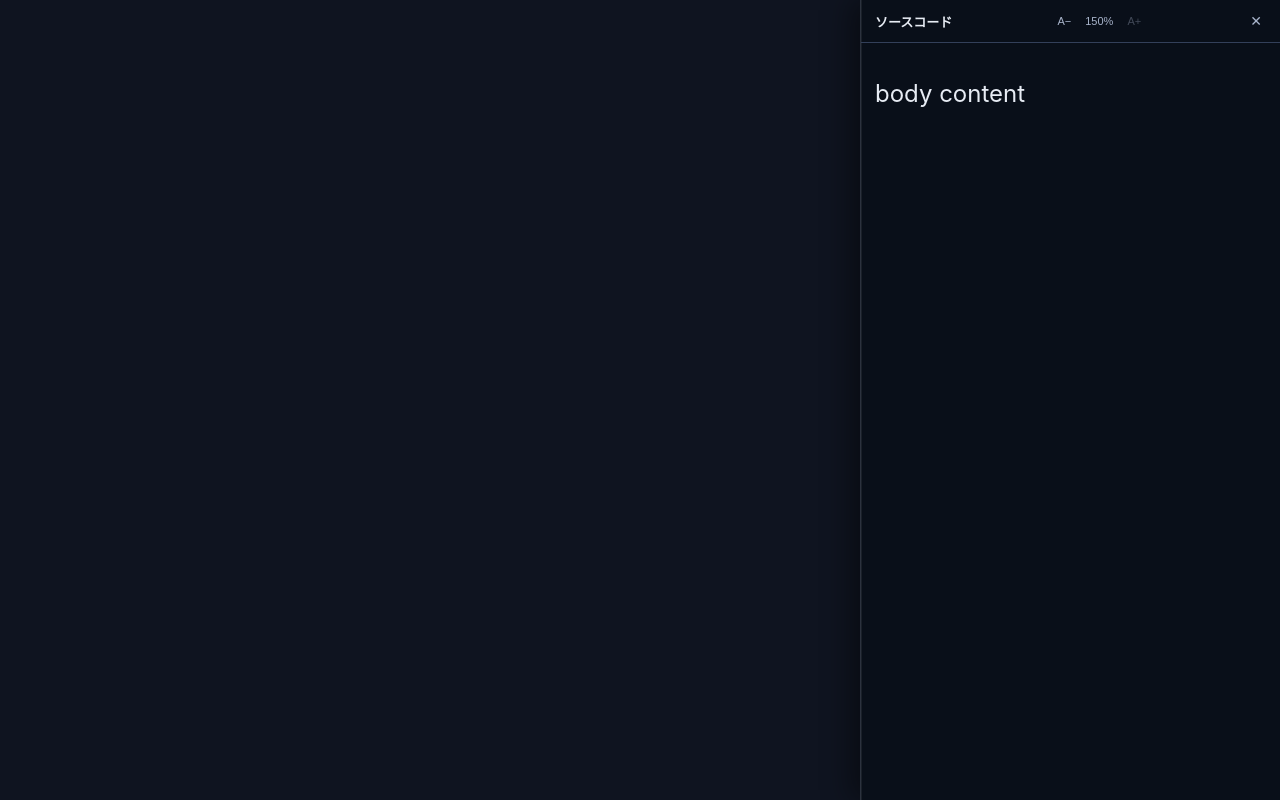
it: SidePanel font scale controls › resets to 100% when the current-value button is clicked
Click the button with test id "side-panel-font-reset".
click(1099, 21)  # box [1079,12,1119,30]
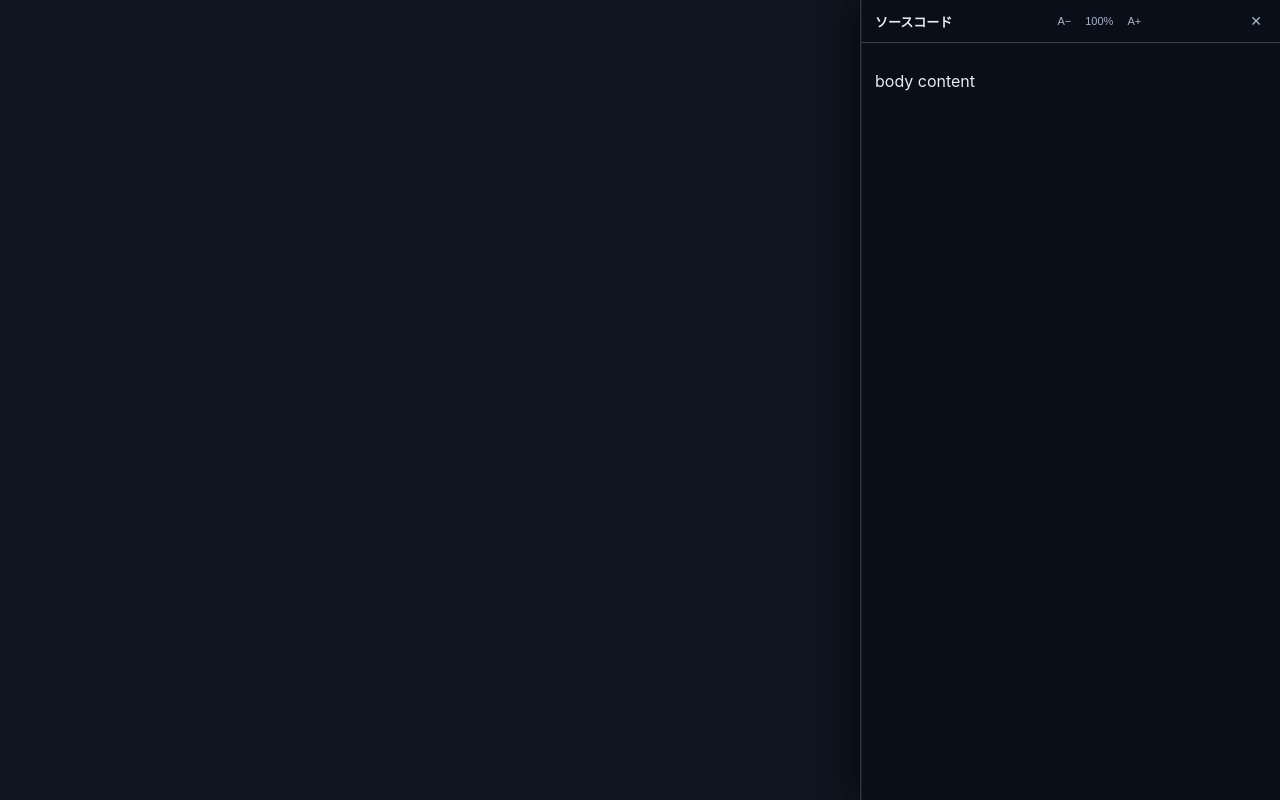
Check: the button with test id "side-panel-font-reset" reads "100%", box [1079,12,1119,30]
